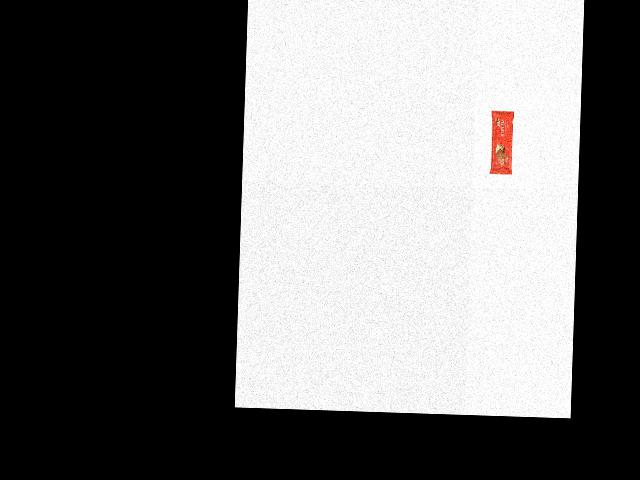chocolate: (489, 108, 514, 174)
